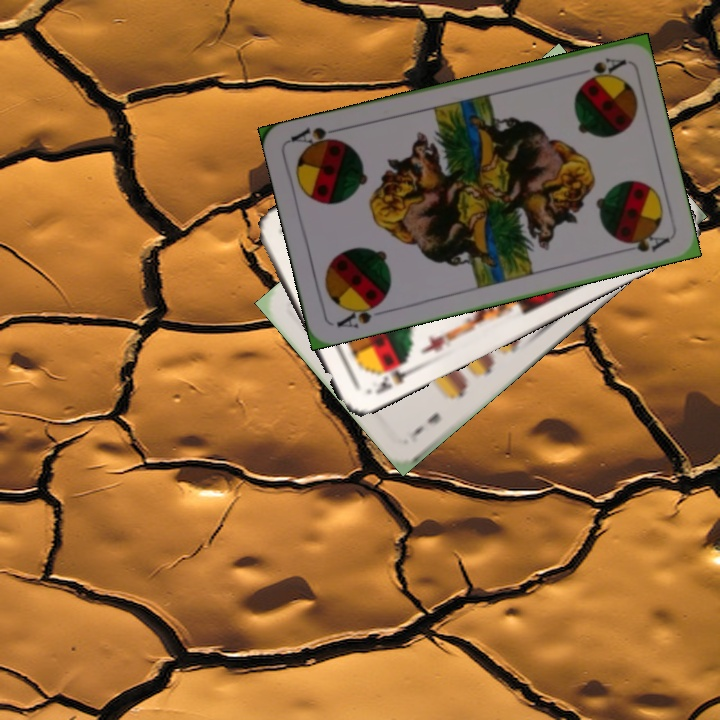E7: (406, 408, 444, 445)
SA: (332, 296, 386, 331), (579, 53, 628, 84)
SK: (363, 356, 417, 397)
